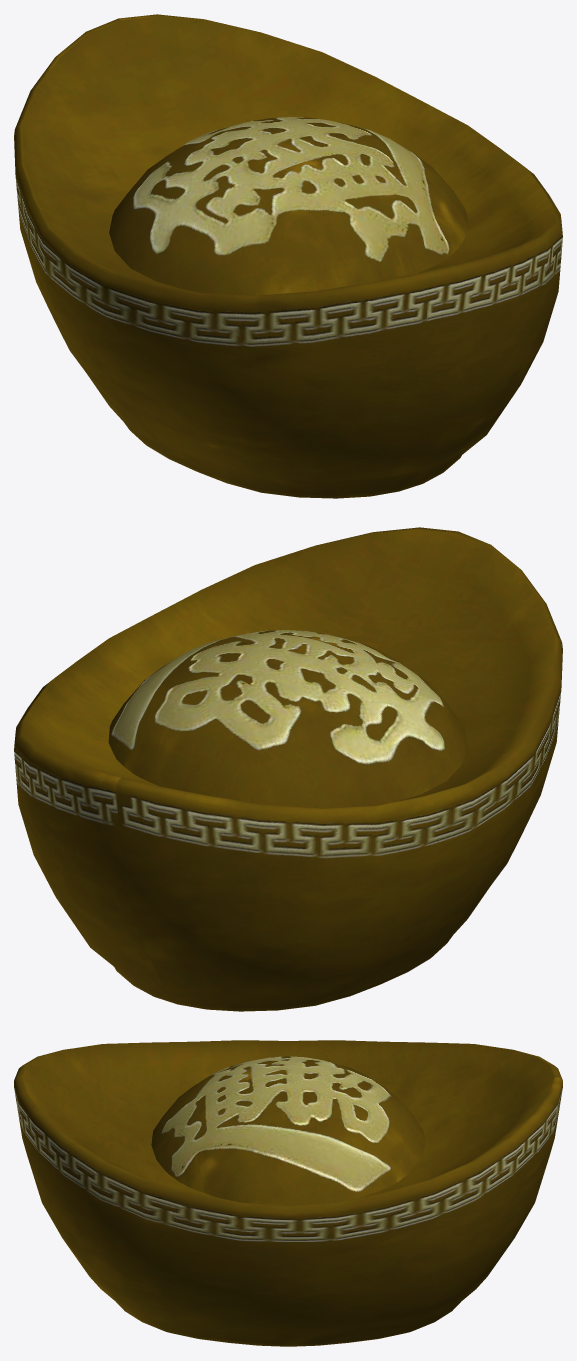
The model's file is B_Misc_0_146.FBX.
3 renders of one model, top to bottom at view 1: azimuth 30°, elevation 25°; view 2: azimuth 150°, elevation 25°; view 3: azimuth 270°, elevation 25°, orthographic. The views are drawn at different scales.
Parts seen in each view (by area): view 1: Object03; view 2: Object03; view 3: Object03.
Boxes of the visible parts, <box> form: Object03: <box>14,14,562,498</box>; Object03: <box>14,527,562,1011</box>; Object03: <box>14,1040,562,1346</box>.
Size of the model in its own units: 11.48 by 6.91 by 15.64.
1 material, 1 textured.
